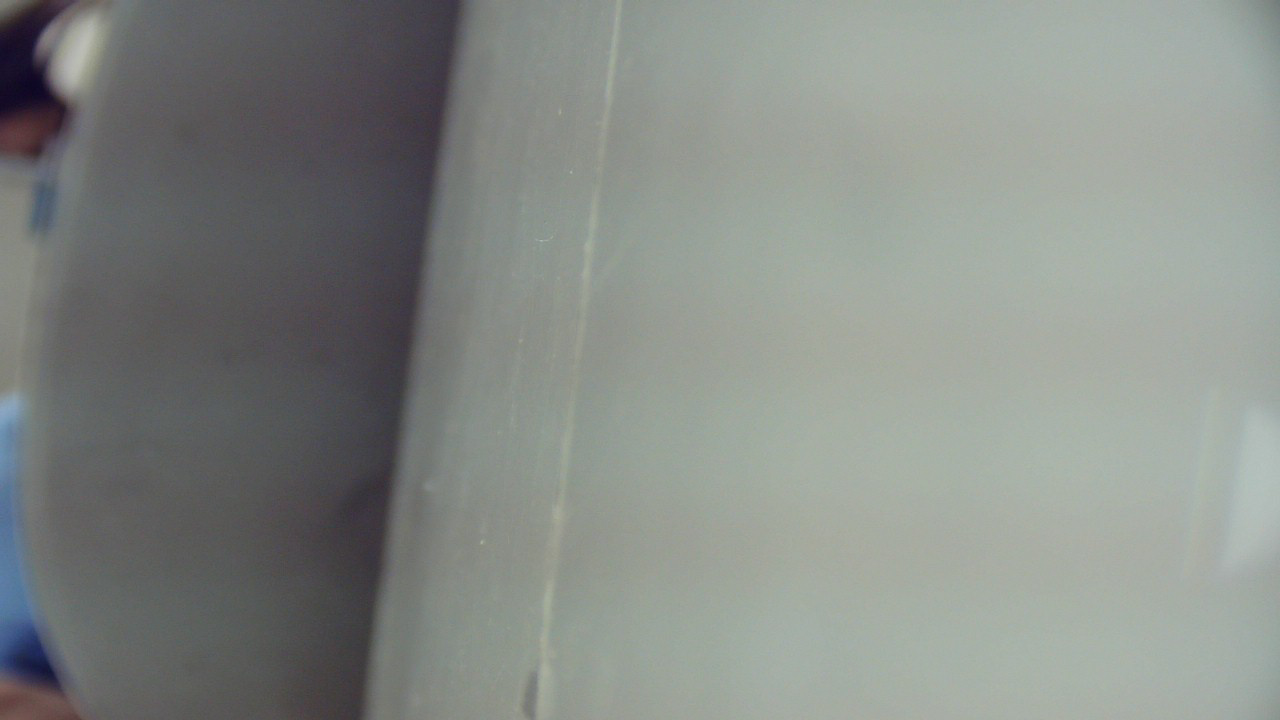meow: (536, 258, 1020, 426)
